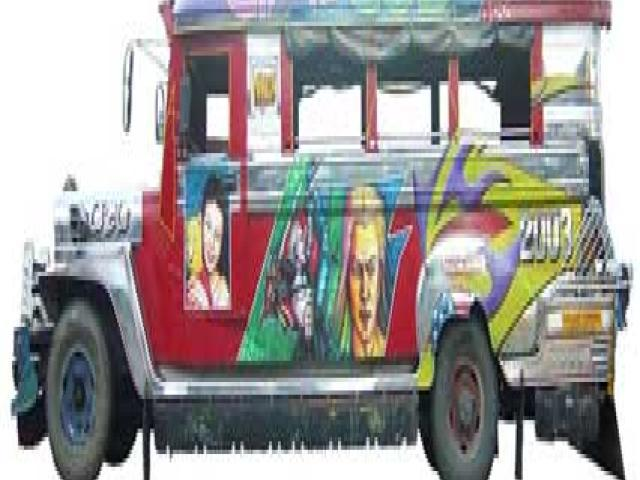jeepney: (9, 0, 631, 480)
